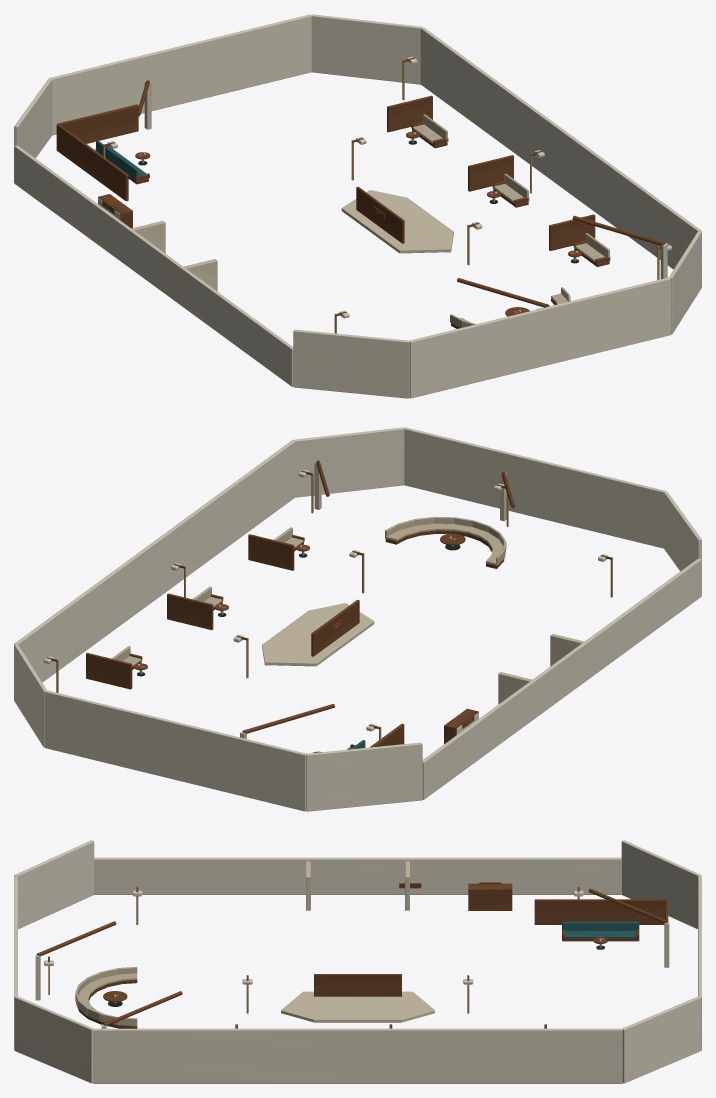
File: SOL_D08_directory_06_source001.glb
The picture shows the model from 3 angles, top to bottom: view 1: azimuth 30°, elevation 25°; view 2: azimuth 150°, elevation 25°; view 3: azimuth 270°, elevation 25°; orthographic projection. The views are drawn at different scales.
Visible parts, largest first — view 1: D08_directory_06__gallery_shell3, D08_directory_06__gallery_shell5, D08_directory_06__gallery_shell1, D08_directory_06__gallery_shell6, D08_directory_06__entry_b, D08_directory_06__gallery_shell2, D08_directory_06__entry_a, D08_directory_06__wayfinding_relief_base, D08_directory_06__quiet_pocket_back, D08_directory_06__gallery_shell0, D08_directory_06__gallery_shell4, D08_directory_06__quiet_pocket_return (+6 smaller); view 2: D08_directory_06__gallery_shell3, D08_directory_06__gallery_shell1, D08_directory_06__gallery_shell5, D08_directory_06__gallery_shell0, D08_directory_06__entry_b, D08_directory_06__gallery_shell4, D08_directory_06__entry_a, D08_directory_06__wayfinding_relief_base, D08_directory_06__gallery_shell6, D08_directory_06__gallery_shell2, D08_directory_06__privacy_return1, D08_directory_06__privacy_return2 (+5 smaller); view 3: D08_directory_06__gallery_shell3, D08_directory_06__entry_a, D08_directory_06__entry_b, D08_directory_06__gallery_shell2, D08_directory_06__gallery_shell4, D08_directory_06__gallery_shell6, D08_directory_06__gallery_shell0, D08_directory_06__wayfinding_relief_base, D08_directory_06__quiet_pocket_back, D08_directory_06__orientation_relief, D08_directory_06__care_body, D08_directory_06__quiet_pocket_back.001 (+4 smaller).
Boxes of the visible parts, x1,y1,x2,y2 form: D08_directory_06__gallery_shell3: (420, 27, 701, 269); D08_directory_06__gallery_shell5: (409, 277, 671, 398); D08_directory_06__gallery_shell1: (49, 14, 311, 135); D08_directory_06__gallery_shell6: (293, 329, 409, 398); D08_directory_06__entry_b: (14, 145, 179, 303); D08_directory_06__gallery_shell2: (311, 14, 422, 84); D08_directory_06__entry_a: (128, 228, 293, 386); D08_directory_06__wayfinding_relief_base: (341, 190, 453, 253); D08_directory_06__quiet_pocket_back: (56, 124, 128, 201); D08_directory_06__gallery_shell0: (14, 78, 52, 182); D08_directory_06__gallery_shell4: (669, 231, 701, 334); D08_directory_06__quiet_pocket_return: (57, 104, 138, 143); D08_directory_06__gallery_shell3: (14, 440, 295, 682); D08_directory_06__gallery_shell1: (44, 690, 306, 811); D08_directory_06__gallery_shell5: (404, 427, 666, 548); D08_directory_06__gallery_shell0: (306, 742, 422, 811); D08_directory_06__entry_b: (422, 641, 588, 799); D08_directory_06__gallery_shell4: (293, 427, 404, 497); D08_directory_06__entry_a: (534, 558, 701, 679); D08_directory_06__wayfinding_relief_base: (262, 603, 374, 666); D08_directory_06__gallery_shell6: (663, 491, 701, 595); D08_directory_06__gallery_shell2: (14, 644, 46, 747); D08_directory_06__privacy_return1: (167, 593, 213, 629); D08_directory_06__privacy_return2: (248, 534, 294, 570); D08_directory_06__gallery_shell3: (93, 1028, 622, 1083); D08_directory_06__entry_a: (94, 857, 406, 894); D08_directory_06__entry_b: (318, 857, 621, 894); D08_directory_06__gallery_shell2: (622, 996, 701, 1083); D08_directory_06__gallery_shell4: (14, 996, 93, 1083); D08_directory_06__gallery_shell6: (14, 840, 94, 929); D08_directory_06__gallery_shell0: (621, 840, 701, 929); D08_directory_06__wayfinding_relief_base: (281, 991, 434, 1022); D08_directory_06__quiet_pocket_back: (534, 899, 666, 924); D08_directory_06__orientation_relief: (314, 974, 401, 996); D08_directory_06__care_body: (468, 883, 512, 910); D08_directory_06__quiet_pocket_back.001: (562, 921, 639, 930).
Bounding box in the file's own units: 40.86 × 5.48 × 62.36.
8 materials, 8 textured.
